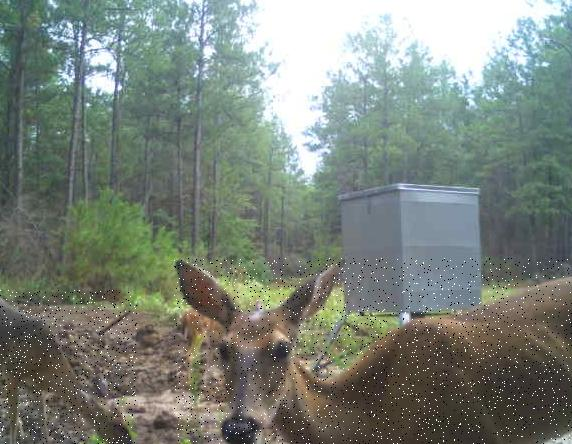Deer: (174, 258, 572, 444), (0, 290, 137, 444), (174, 306, 225, 383)
